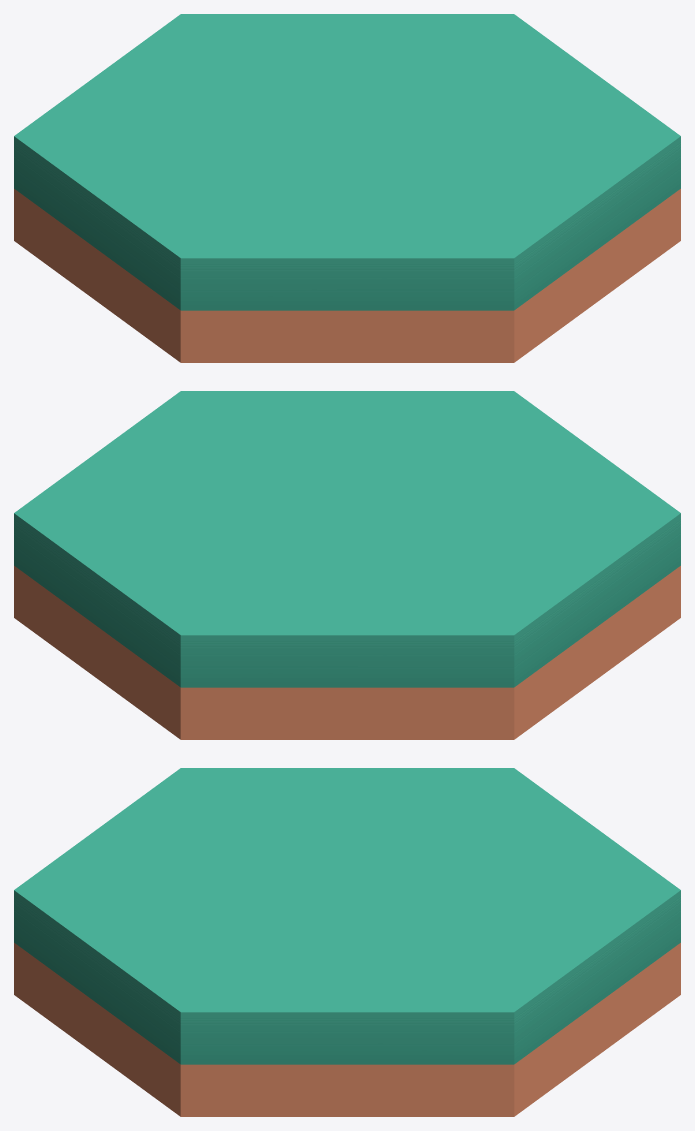
File: grass.glb
The picture shows the model from 3 angles, top to bottom: view 1: azimuth 30°, elevation 25°; view 2: azimuth 150°, elevation 25°; view 3: azimuth 270°, elevation 25°; orthographic projection.
Parts seen in each view (by area): view 1: grass; view 2: grass; view 3: grass.
Boxes of the visible parts, bbox=[...] form: grass: bbox=[14, 14, 680, 362]; grass: bbox=[14, 391, 680, 739]; grass: bbox=[14, 768, 680, 1116].
Size of the model in its own units: 1 by 0.2 by 1.15.
Materials: 1 (1 with a texture image).
